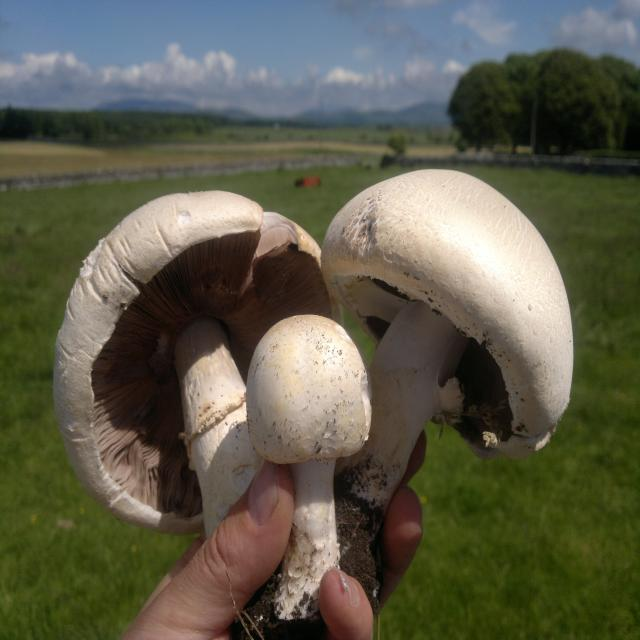field-mushroom: (321, 170, 574, 598), (52, 191, 336, 540), (246, 315, 370, 623)
